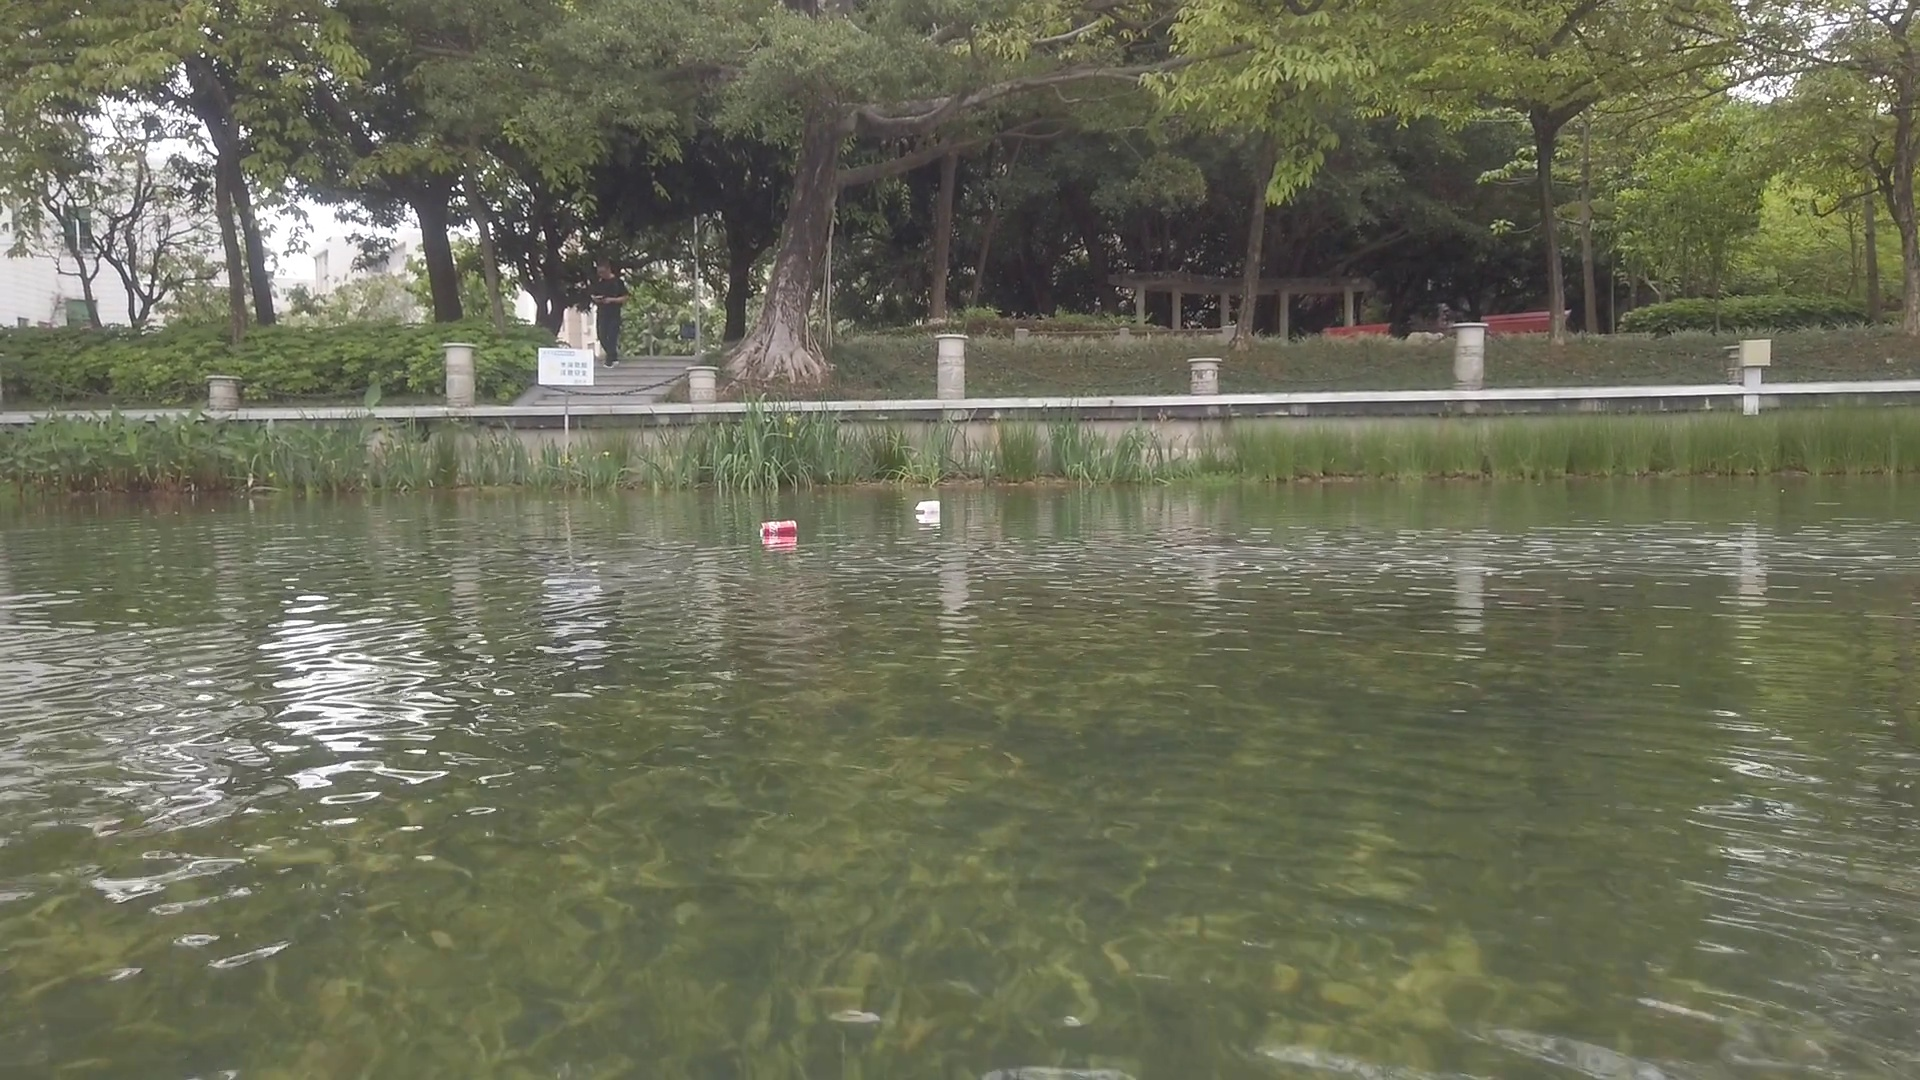bottle: (760, 520, 796, 535)
carton: (918, 502, 942, 514)
